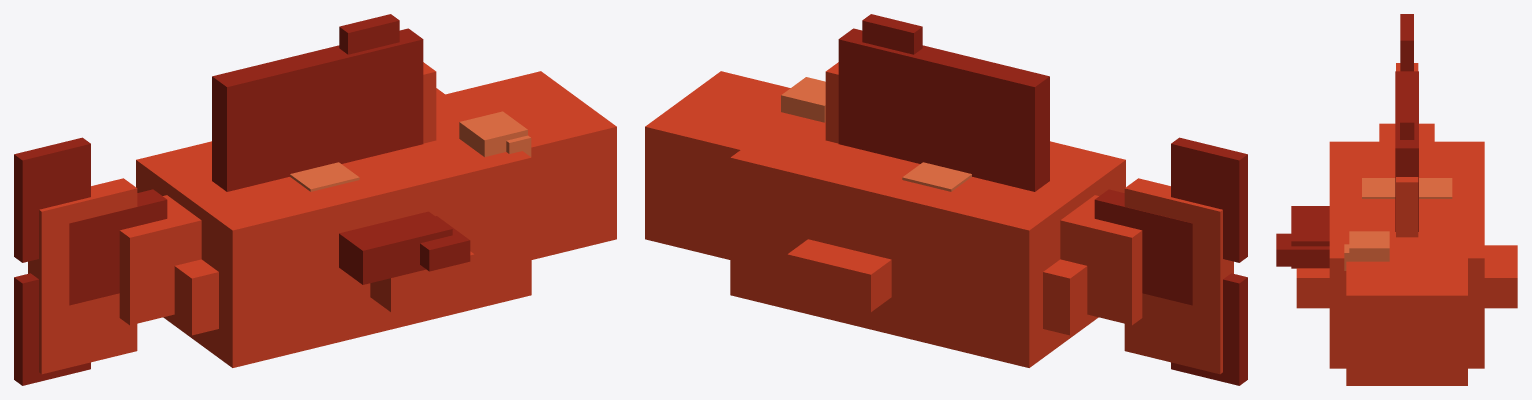
The model's file is fish_magma_kiln.glb.
3 views of the same model, side by side, from view 1: azimuth 30°, elevation 25°; view 2: azimuth 150°, elevation 25°; view 3: azimuth 270°, elevation 25° (orthographic). The views are drawn at different scales.
Parts seen in each view (by area): view 1: FishArt_body, FishArt_dorsal, FishArt_tail, FishArt_pectoral, FishArt_eye, FishArt_specialty; view 2: FishArt_body, FishArt_dorsal, FishArt_tail, FishArt_eye, FishArt_specialty; view 3: FishArt_body, FishArt_pectoral, FishArt_dorsal, FishArt_specialty, FishArt_eye, FishArt_tail.
Part boxes in pixels (x1,y1,x2,y2): FishArt_body: (28, 62, 616, 374); FishArt_dorsal: (212, 14, 423, 191); FishArt_tail: (14, 137, 167, 385); FishArt_pectoral: (339, 211, 470, 284); FishArt_eye: (459, 111, 531, 156); FishArt_specialty: (290, 162, 359, 191); FishArt_body: (645, 62, 1233, 374); FishArt_dorsal: (838, 14, 1049, 191); FishArt_tail: (1094, 137, 1247, 385); FishArt_eye: (781, 77, 825, 122); FishArt_specialty: (902, 162, 971, 191); FishArt_body: (1296, 63, 1517, 385); FishArt_pectoral: (1276, 206, 1329, 268); FishArt_dorsal: (1395, 71, 1418, 231); FishArt_specialty: (1362, 178, 1452, 198); FishArt_eye: (1344, 231, 1389, 270); FishArt_tail: (1400, 14, 1413, 71).
Size of the model in its own units: 0.3091 by 0.1442 by 0.1439.
